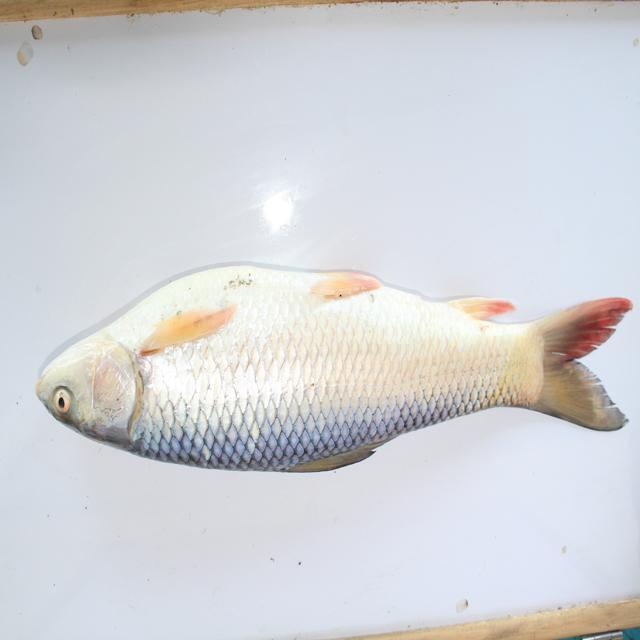Mori: (20, 256, 640, 472)
